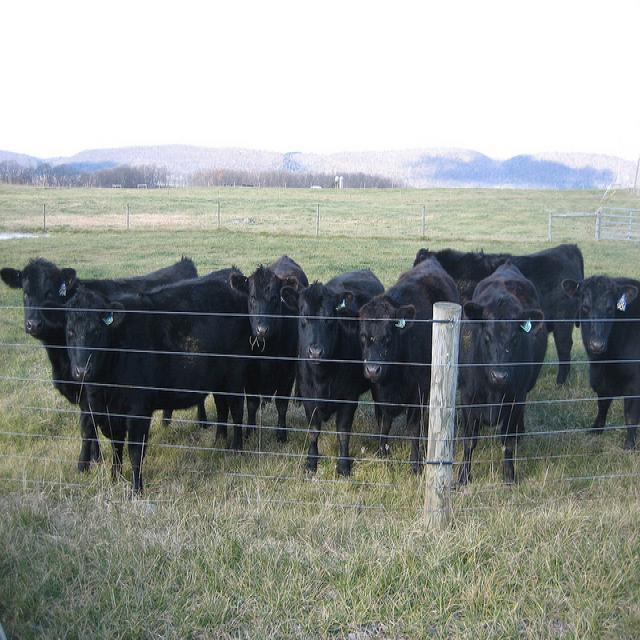cow: (39, 276, 246, 508), (0, 251, 207, 469), (337, 255, 459, 475), (456, 257, 553, 487), (278, 265, 384, 475), (462, 241, 584, 384), (562, 271, 639, 447), (243, 252, 308, 439), (411, 245, 512, 364)
